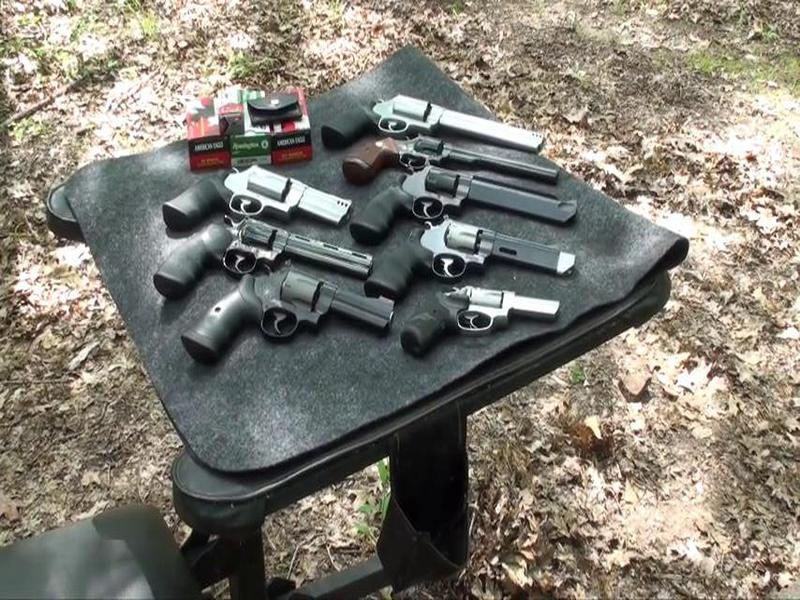Revolver: (188, 264, 402, 387), (326, 77, 544, 154), (405, 276, 564, 364)
